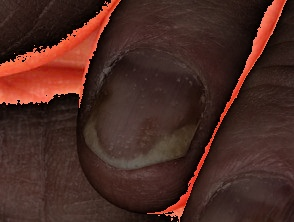Nail_psoriasis: (62, 22, 230, 196), (182, 167, 294, 222)
